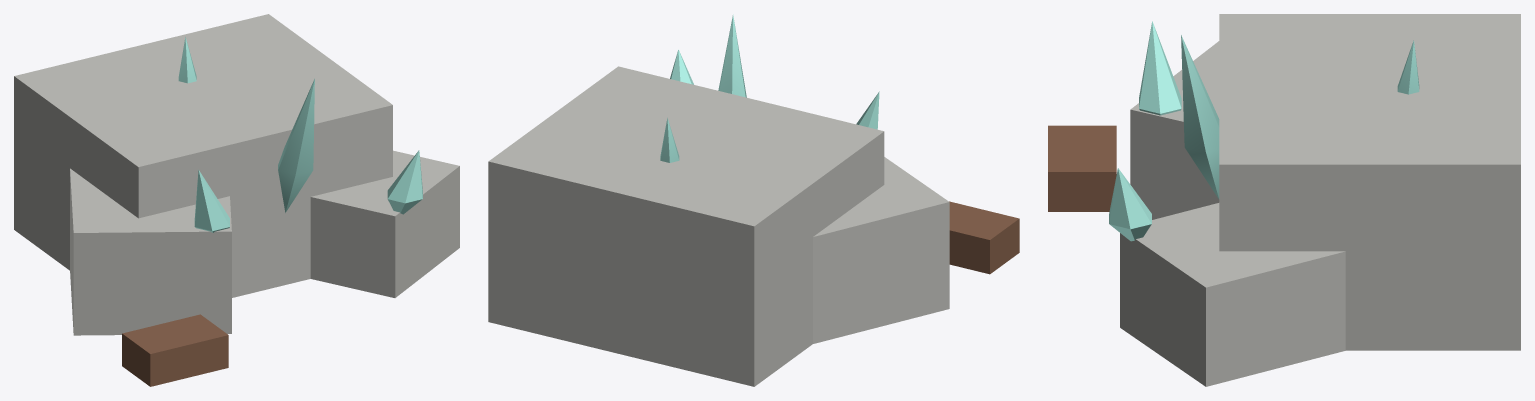
Rendered from SonMon_spiritmine.fbx.
3 views of the same model, side by side, from view 1: azimuth 30°, elevation 25°; view 2: azimuth 150°, elevation 25°; view 3: azimuth 270°, elevation 25° (orthographic). The views are drawn at different scales.
Parts seen in each view (by area): view 1: spiritmine; view 2: spiritmine; view 3: spiritmine.
Part boxes in pixels (box(x1,y1,x2,y2)): spiritmine: box(14, 14, 459, 386); spiritmine: box(488, 14, 1019, 386); spiritmine: box(1048, 14, 1520, 386).
Size of the model in its own units: 1.94 by 1.05 by 1.73.
